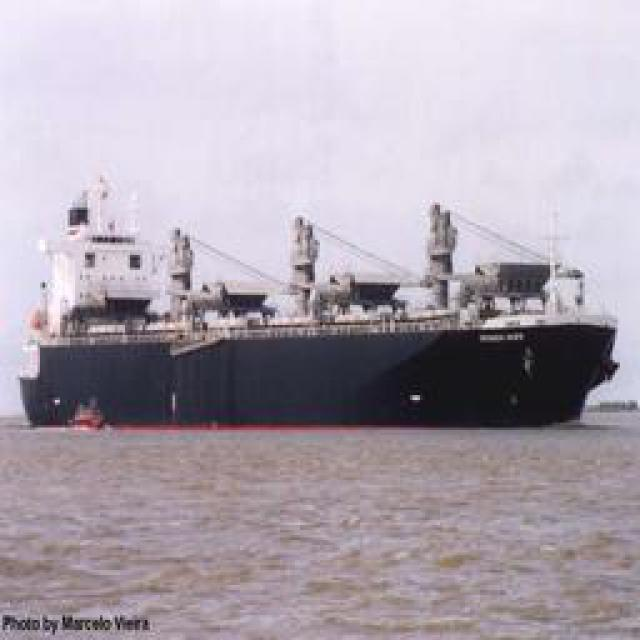Ship: (21, 185, 629, 428)
